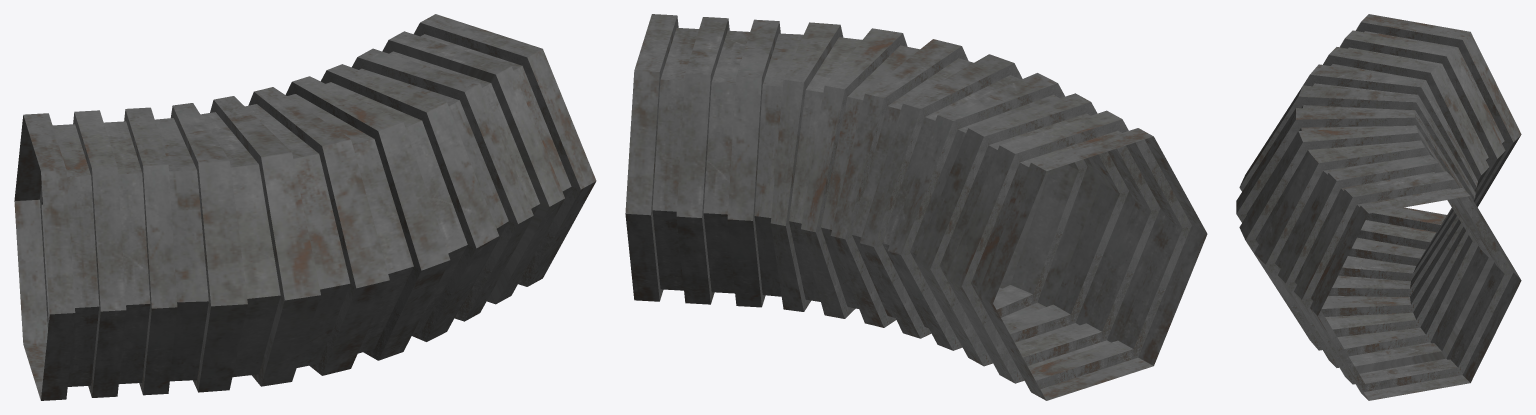
The model's file is Cilindro_Hex_Curvado.fbx.
The picture shows the model from 3 angles, left to right: view 1: azimuth 30°, elevation 25°; view 2: azimuth 150°, elevation 25°; view 3: azimuth 270°, elevation 25°; orthographic projection. The views are drawn at different scales.
Parts seen in each view (by area): view 1: pCylinder3; view 2: pCylinder3; view 3: pCylinder3.
Boxes of the visible parts, x1,y1,x2,y2 form: pCylinder3: [14, 14, 596, 400]; pCylinder3: [625, 14, 1207, 400]; pCylinder3: [1236, 14, 1521, 400].
Size of the model in its own units: 216 by 86.6 by 120.
1 material, 1 textured.
